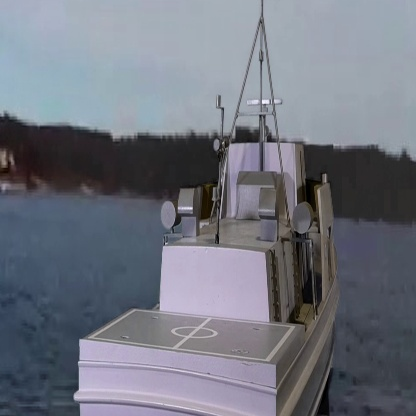YP689: (72, 0, 344, 416)
